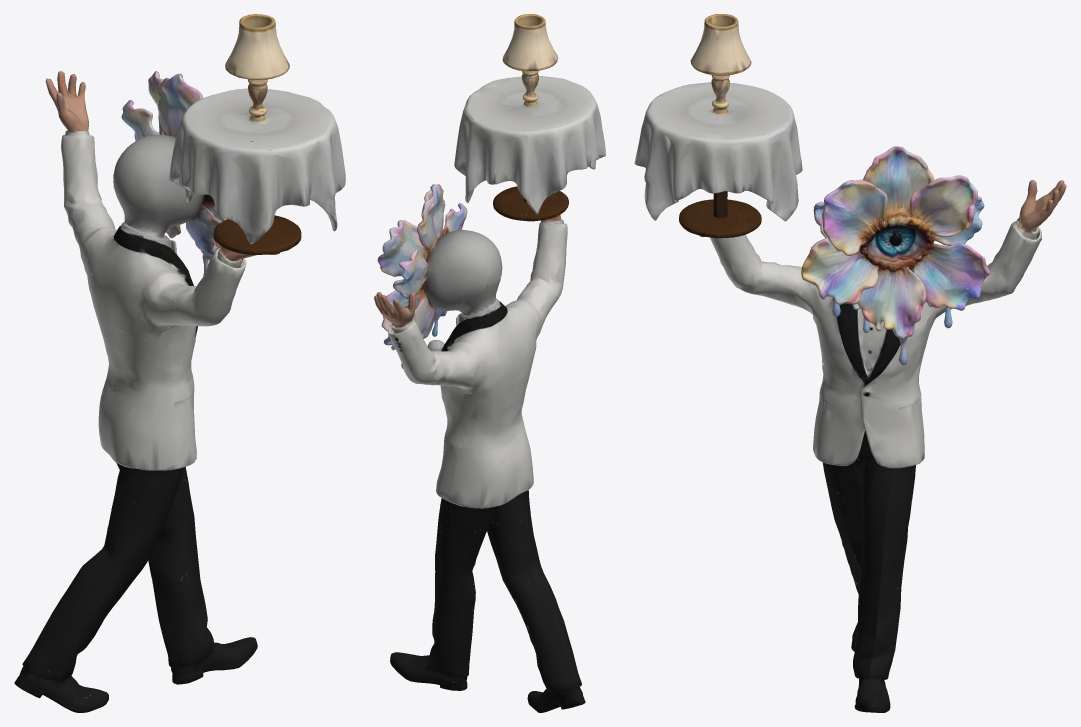
Rendered from maitre.glb.
3 views of the same model, side by side, from view 1: azimuth 30°, elevation 25°; view 2: azimuth 150°, elevation 25°; view 3: azimuth 270°, elevation 25° (orthographic). The views are drawn at different scales.
Parts seen in each view (by area): view 1: tripo_node_05c4fbca-02c4-4de5-b7a4-4f7adf9fef5e; view 2: tripo_node_05c4fbca-02c4-4de5-b7a4-4f7adf9fef5e; view 3: tripo_node_05c4fbca-02c4-4de5-b7a4-4f7adf9fef5e.
Part boxes in pixels (left/top/right/bottom): tripo_node_05c4fbca-02c4-4de5-b7a4-4f7adf9fef5e: left=14, top=14, right=345, bottom=712; tripo_node_05c4fbca-02c4-4de5-b7a4-4f7adf9fef5e: left=374, top=14, right=605, bottom=712; tripo_node_05c4fbca-02c4-4de5-b7a4-4f7adf9fef5e: left=634, top=14, right=1066, bottom=712.
Bounding box in the file's own units: 0.3386 × 1 × 0.5836.
Materials: 1 (1 with a texture image).
